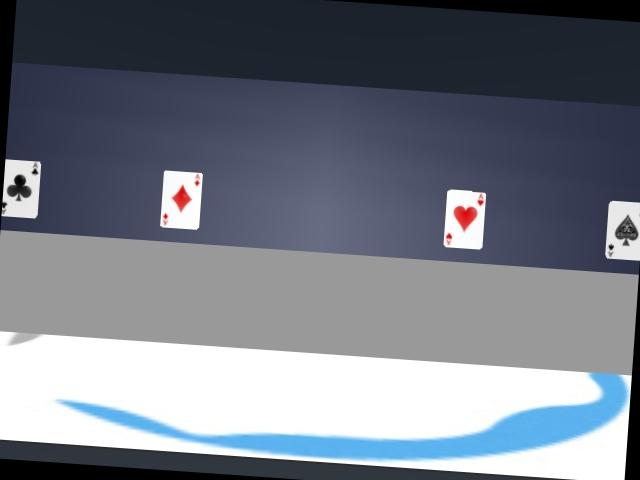club: (1, 159, 40, 217)
diamond: (160, 170, 202, 229)
heart: (443, 190, 485, 249)
spade: (605, 201, 639, 260)
